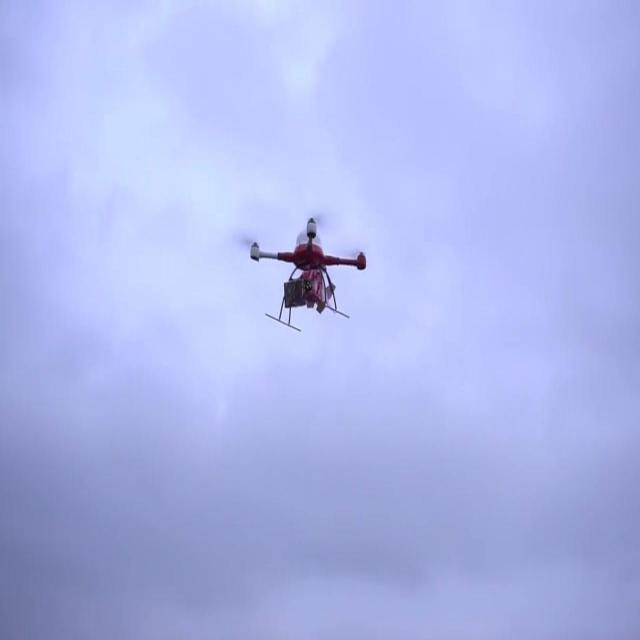UAV: (245, 214, 366, 332)
